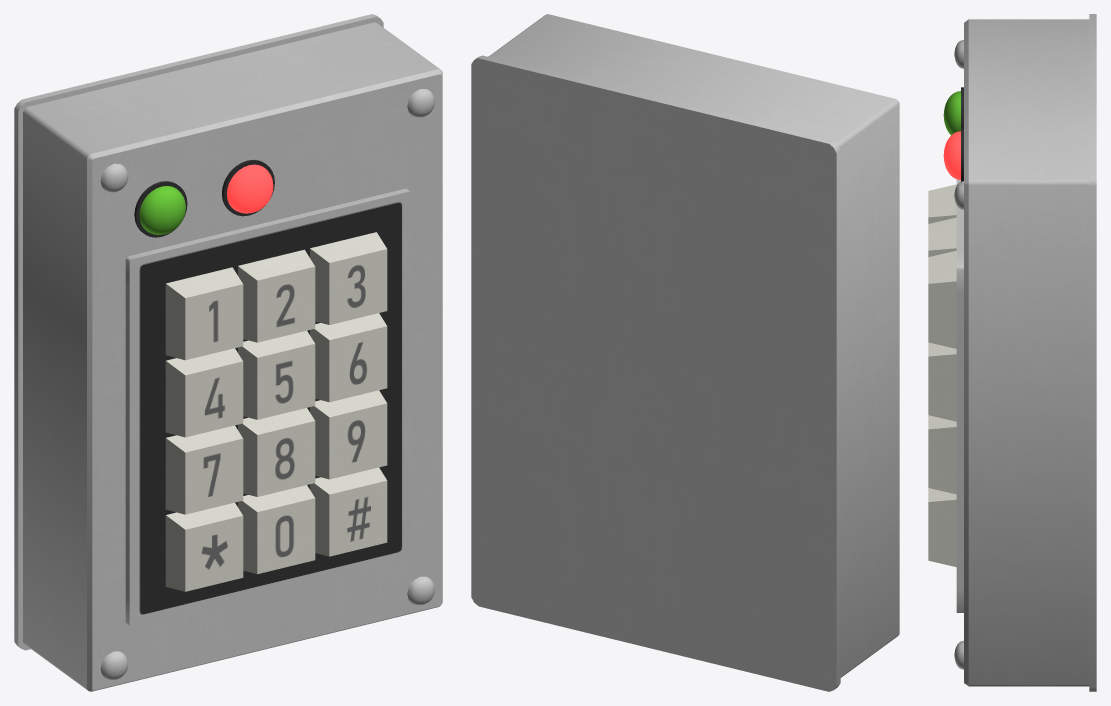
3 renders of one model, left to right at view 1: azimuth 30°, elevation 25°; view 2: azimuth 150°, elevation 25°; view 3: azimuth 270°, elevation 25°, orthographic. The views are drawn at different scales.
Visible parts, largest first — view 1: KeypadDoorLock; view 2: KeypadDoorLock; view 3: KeypadDoorLock.
Part boxes in pixels (left/top/right/bottom): KeypadDoorLock: left=14, top=14, right=442, bottom=691; KeypadDoorLock: left=471, top=14, right=899, bottom=691; KeypadDoorLock: left=928, top=14, right=1096, bottom=691.
Bounding box in the file's own units: 0.0924 × 0.1324 × 0.0392.
Materials: 1 (1 with a texture image).
